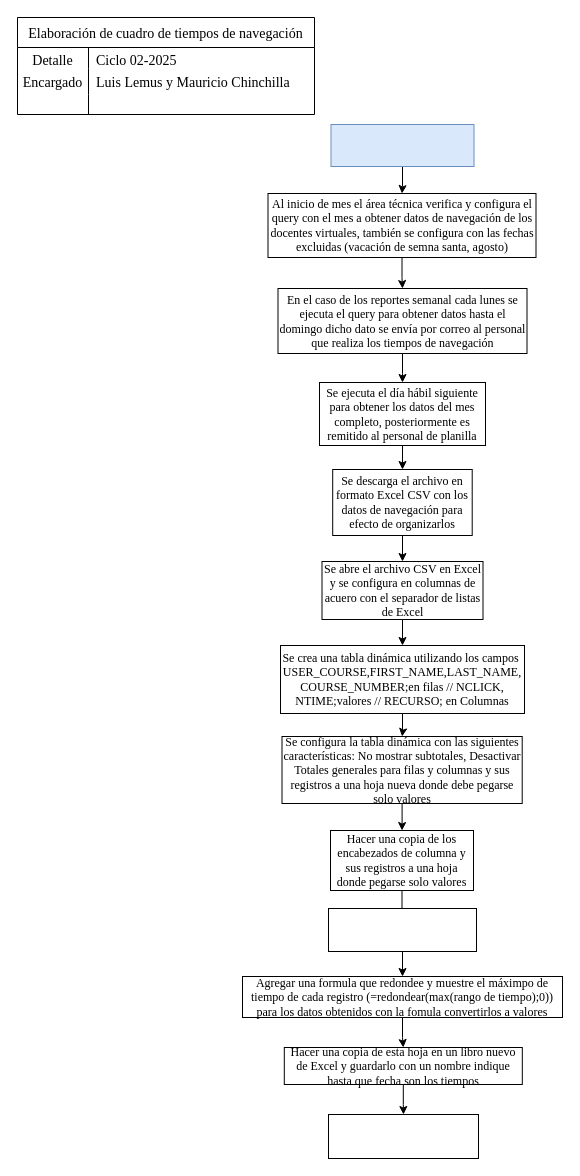
Some shapes in this 580 by 1176 pixel diagram are drawn without their labels. Here are the shapes that lost their labels. From the top down, the centre of each, then its label:
At point (402, 145): "Obtener datos utilizando Query".
At point (402, 930): "En la nueva hoja, después de la ultima columna agregar un encabezado tiempo".
At point (403, 1136): "Enviar este último archivo al encargado de crear el registro de tiempos".
